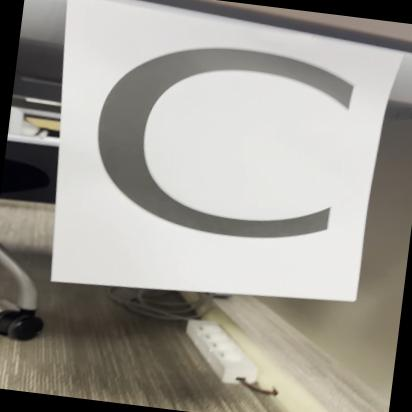seat: (31, 0, 407, 318)
